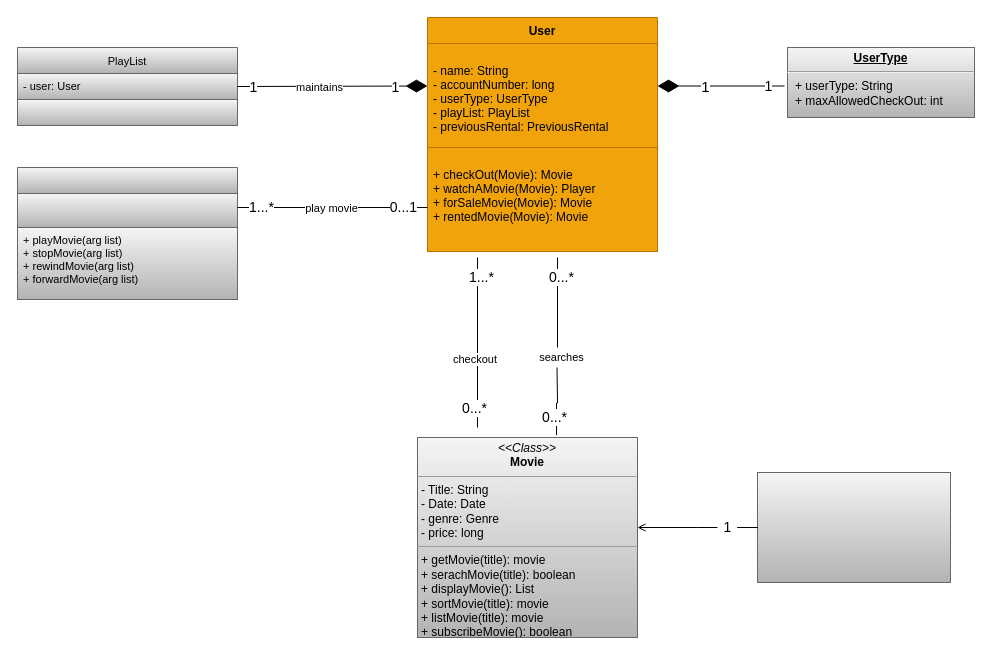
The diagram is 992 pixels wide and 656 high, and some of its shapes have lost their labels. The box of each missing label's shape, as (x1, y1, x2, y2) in pixels:
- movie: Movie: (16, 98, 238, 126)
- movieName: String: (16, 192, 238, 228)
<<Enumeretion>> Genre - Action - Comedy - Drama - War: (756, 472, 950, 582)
Player: (16, 166, 238, 300)
